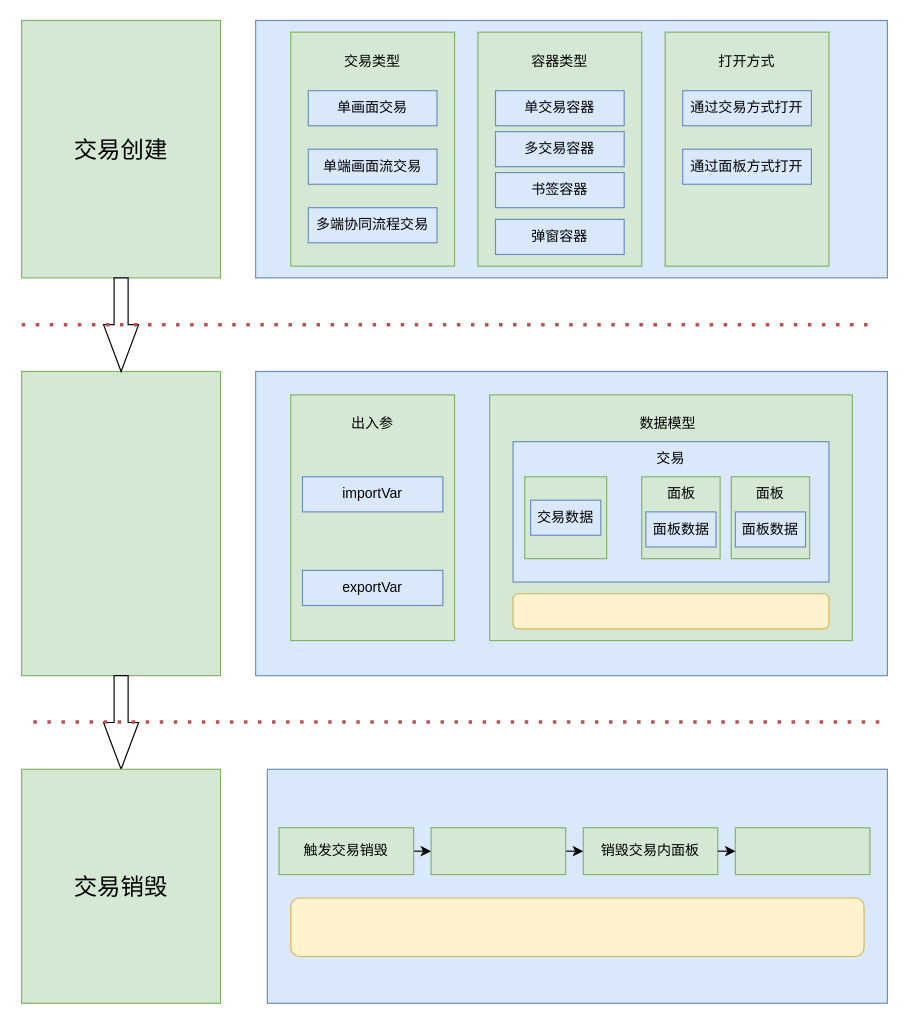
Image size: 910x1024. Some labels were removed from this diagram. The box of each missing label's shape, as (x1, y1, x2, y2) in pixels:
同一交易内多个面板交易数据共享: (512, 593, 829, 629)
数据传递: (20, 370, 221, 676)
销毁交易: (734, 827, 870, 875)
销毁交易时会销毁交易打开的所有面板: (290, 897, 864, 956)
销毁交易生命周期: (430, 827, 566, 875)
